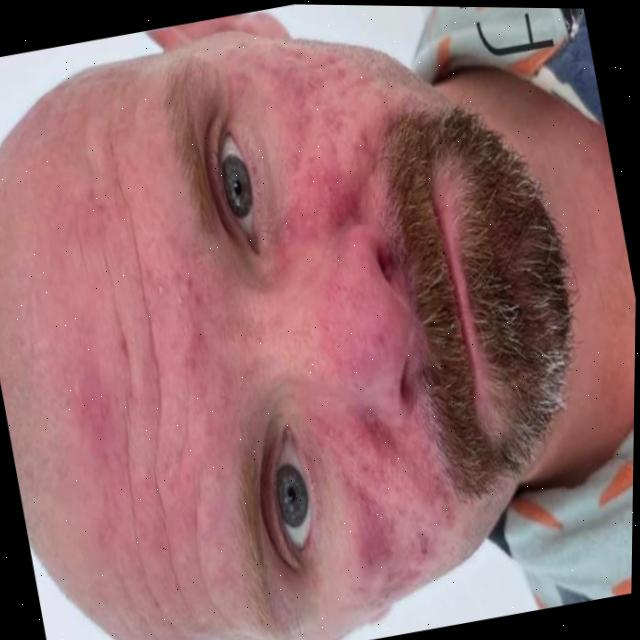Rosacea: (307, 399, 469, 585), (260, 45, 379, 243), (283, 267, 416, 376), (42, 358, 131, 508), (160, 288, 226, 379)
